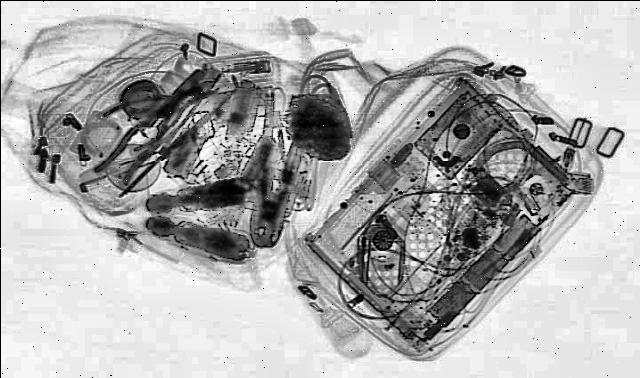Pliers: (89, 64, 220, 184), (85, 66, 242, 150), (240, 108, 314, 246)
